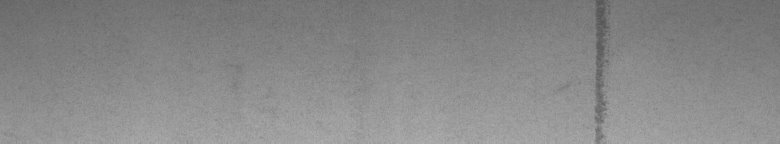hd: (558, 4, 616, 136)
